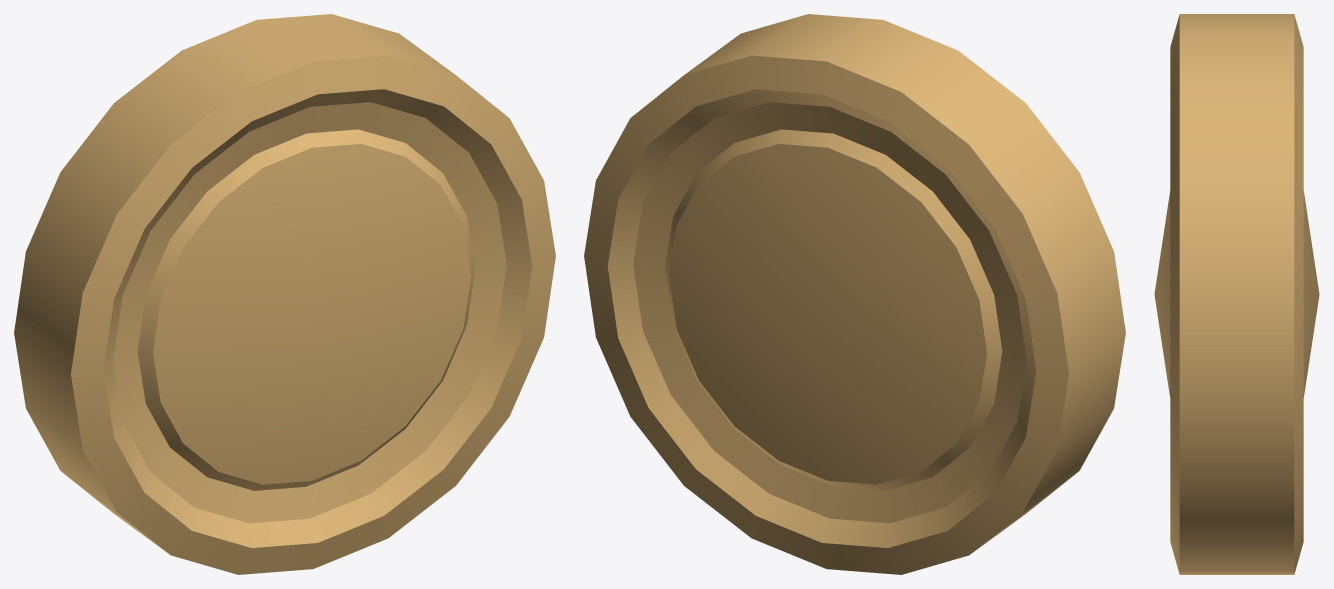
The model's file is coin.fbx.
3 renders of one model, left to right at view 1: azimuth 30°, elevation 25°; view 2: azimuth 150°, elevation 25°; view 3: azimuth 270°, elevation 25°, orthographic.
Visible parts, largest first — view 1: polySurface1; view 2: polySurface1; view 3: polySurface1.
Part boxes in pixels (left/top/right/bottom): polySurface1: left=14, top=14, right=555, bottom=574; polySurface1: left=584, top=14, right=1125, bottom=574; polySurface1: left=1154, top=14, right=1319, bottom=574.
Size of the model in its own units: 0.6 by 0.6 by 0.1753.
